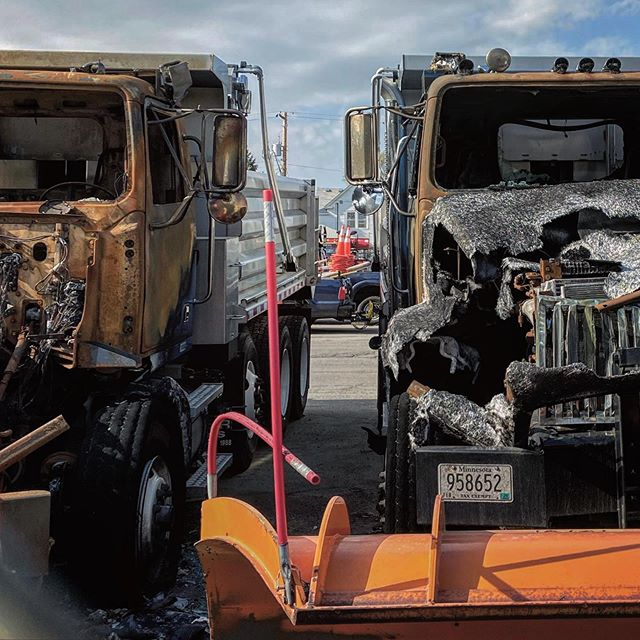truck: (1, 37, 321, 519), (370, 48, 640, 516)
